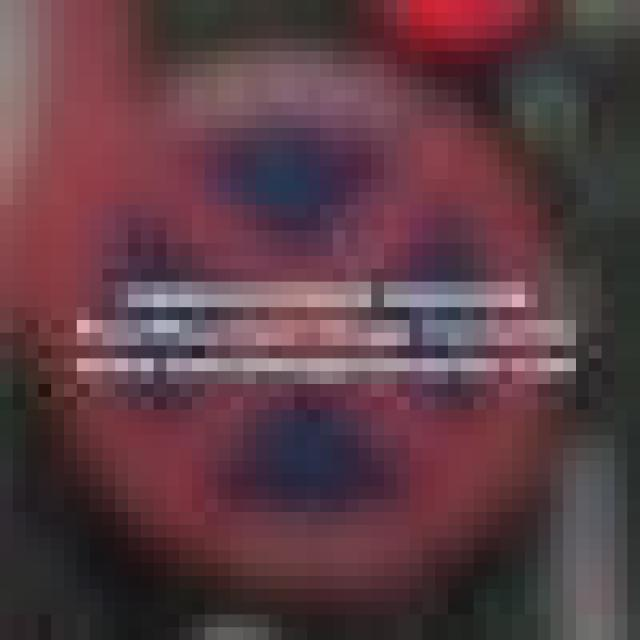no_parking: (13, 26, 589, 588)
